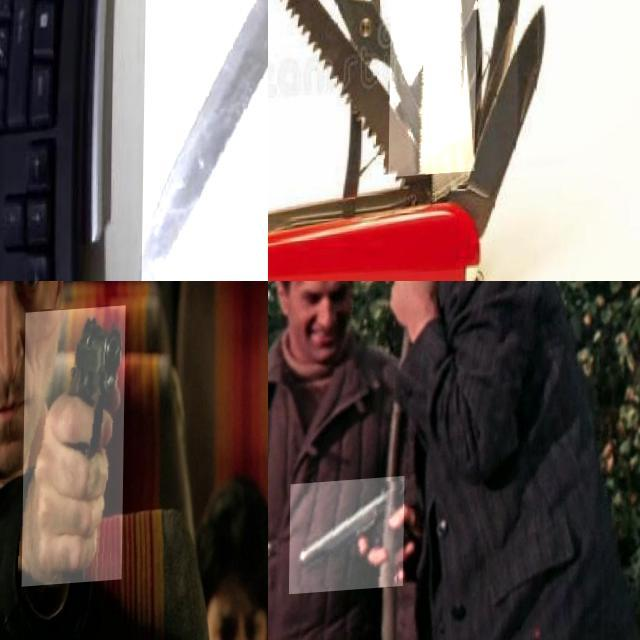-: (142, 0, 268, 281), (474, 17, 566, 209), (390, 0, 480, 192), (268, 0, 318, 247)
gun-knife-thesis - v11 Yolov5 augmented: (23, 310, 127, 590), (291, 479, 406, 596)
